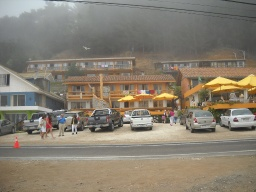car: (183, 108, 220, 137), (219, 108, 256, 133), (87, 107, 125, 131), (129, 110, 157, 133)
person: (39, 114, 54, 141), (69, 113, 79, 137), (58, 113, 66, 138)
